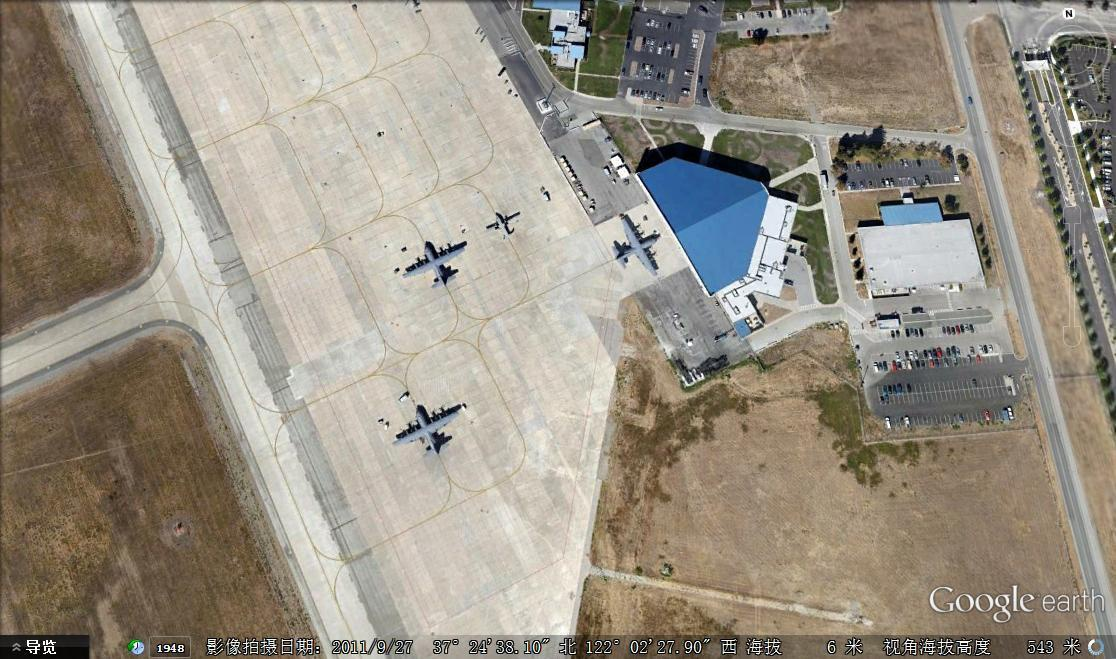aircraft: (388, 395, 469, 461), (606, 211, 670, 278), (399, 238, 471, 292), (480, 209, 520, 242)
